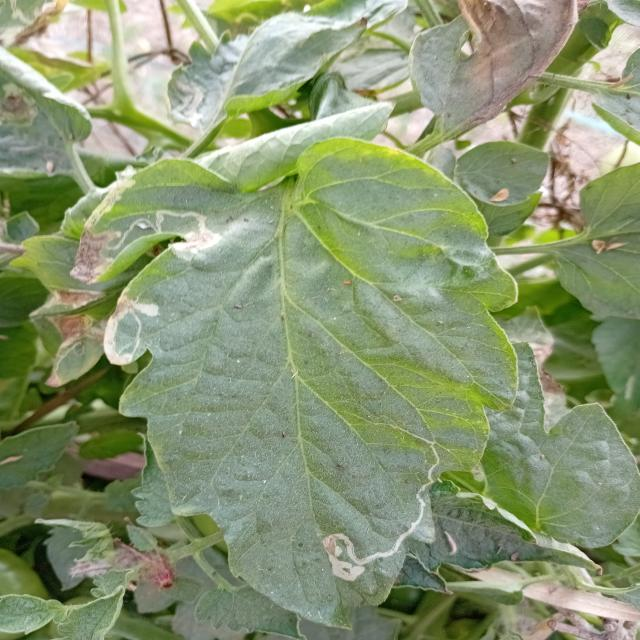Tuta absoluta: (317, 484, 450, 588), (149, 190, 224, 267), (92, 289, 161, 372)
